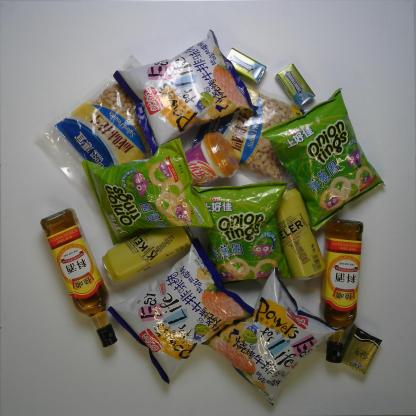Alcohol: (266, 180, 329, 284), (100, 220, 201, 282)
Dried Fruit: (35, 50, 210, 222), (180, 68, 320, 197)
Gum: (275, 61, 316, 109), (224, 47, 266, 86)
Instant Drink: (158, 130, 241, 204)
Puffed Food: (106, 235, 257, 386), (203, 262, 347, 406), (259, 84, 386, 233), (112, 30, 254, 158), (79, 136, 216, 246), (183, 177, 293, 289)
Seasoner: (37, 206, 121, 350), (317, 214, 367, 365)
Tissue: (338, 323, 384, 377)
